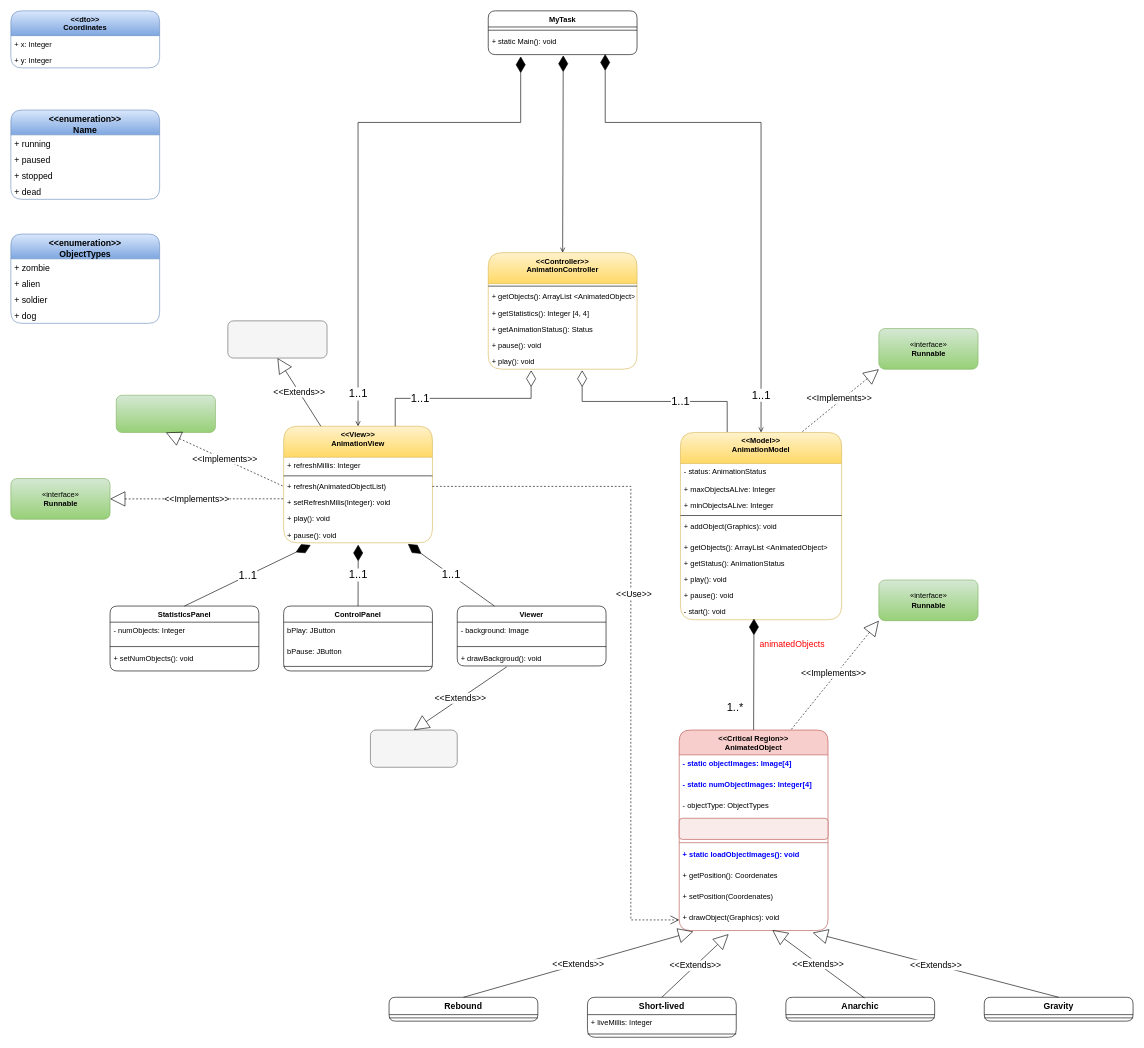
Some shapes in this 1144 by 1048 pixel diagram are drawn without their labels. Here are the shapes that lost their labels. From the top down, the centre of each, then its label:
point 277,339: JFrame
point 165,413: «interface» ActionListener
point 413,748: Canvas
point 753,828: - position: Coordinates
